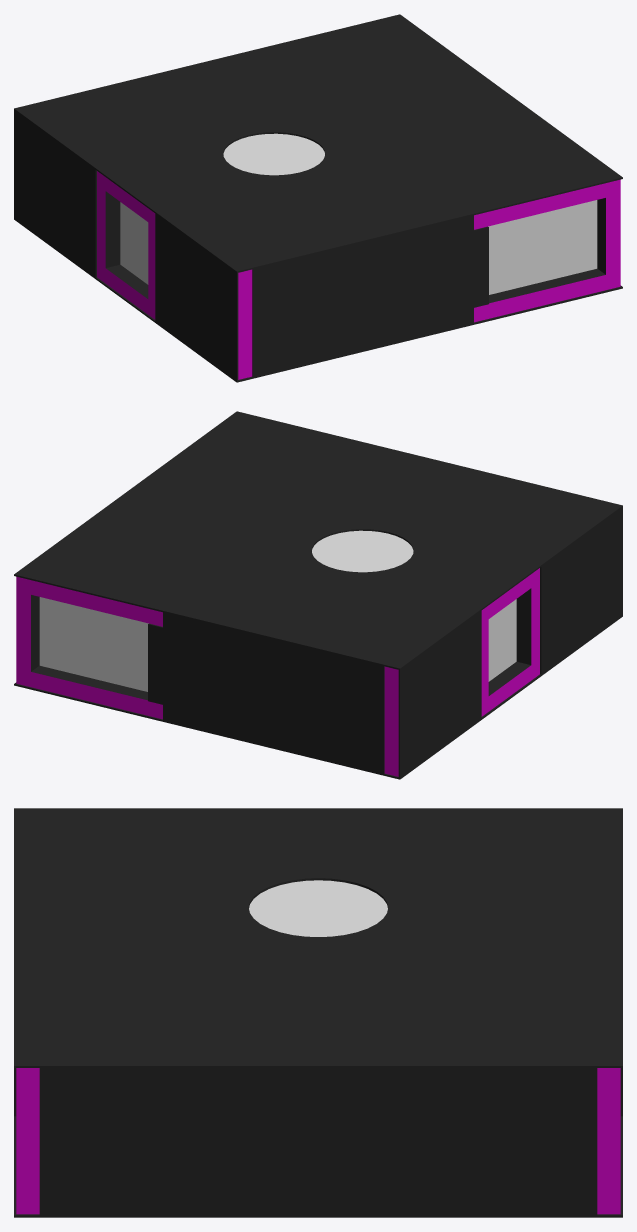
File: body_front.dae
3 views of the same model, one above another, from view 1: azimuth 30°, elevation 25°; view 2: azimuth 150°, elevation 25°; view 3: azimuth 270°, elevation 25° (orthographic). The views are drawn at different scales.
Parts seen in each view (by area): view 1: front_body; view 2: front_body; view 3: front_body.
Boxes of the visible parts, x1=… form: front_body: x1=14, y1=14, x2=622, y2=382; front_body: x1=14, y1=411, x2=622, y2=779; front_body: x1=14, y1=808, x2=622, y2=1217.
Size of the model in its own units: 0.262 by 0.262 by 0.072.
